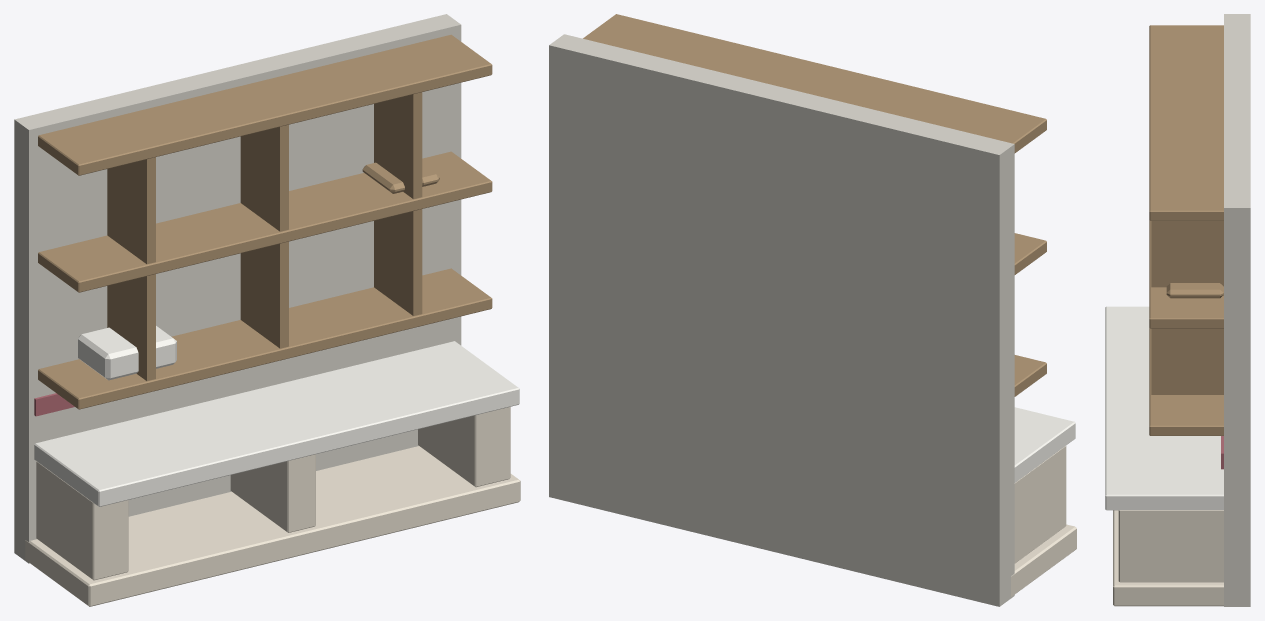
The model's file is roman-bathhouse-and-palaestra-apodyterium-changing-ben-268edf76__37889.glb.
The picture shows the model from 3 angles, left to right: view 1: azimuth 30°, elevation 25°; view 2: azimuth 150°, elevation 25°; view 3: azimuth 270°, elevation 25°; orthographic projection. The views are drawn at different scales.
Visible parts, largest first — view 1: apodyterium-changing-bench; view 2: apodyterium-changing-bench; view 3: apodyterium-changing-bench.
Boxes of the visible parts, x1,y1,x2,y2 form: apodyterium-changing-bench: [14, 14, 520, 606]; apodyterium-changing-bench: [549, 14, 1076, 606]; apodyterium-changing-bench: [1105, 14, 1250, 606].
Size of the model in its own units: 2.4 by 2.3 by 0.76.
